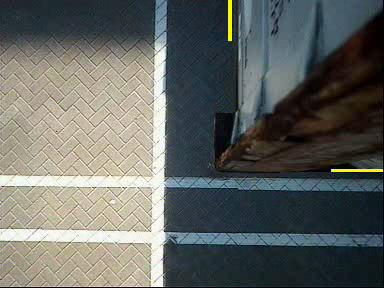groundmarker_2: (104, 182, 196, 222)
